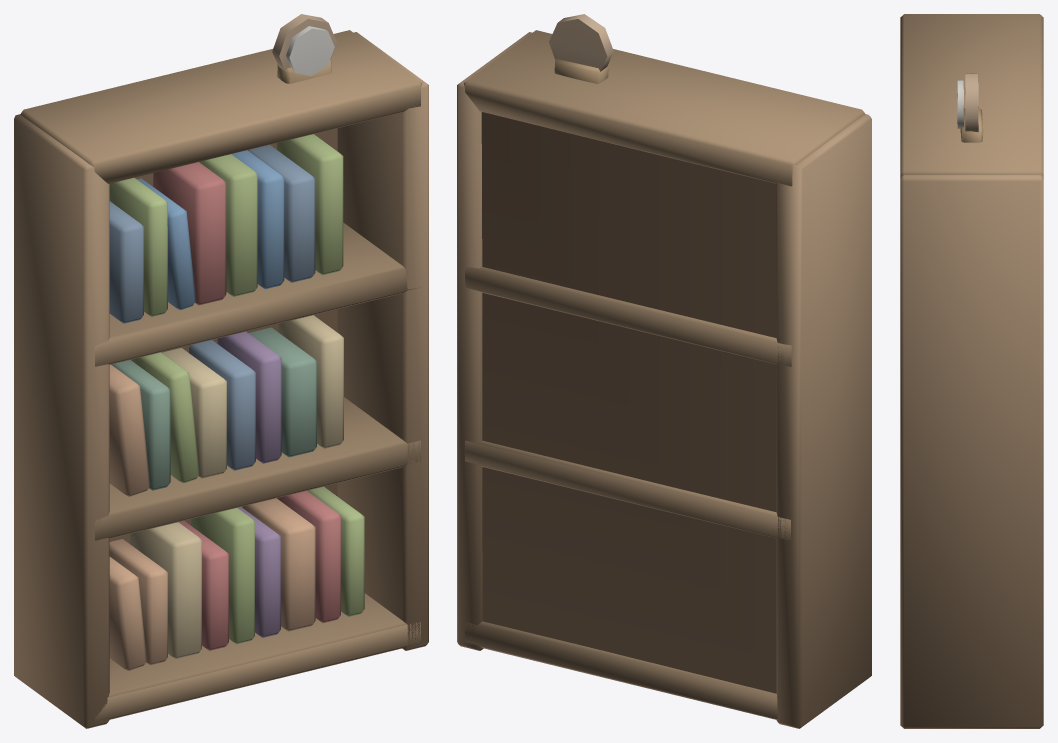
Rendered from bookshelf.glb.
3 views of the same model, side by side, from view 1: azimuth 30°, elevation 25°; view 2: azimuth 150°, elevation 25°; view 3: azimuth 270°, elevation 25° (orthographic). The views are drawn at different scales.
Visible parts, largest first — view 1: bookshelf; view 2: bookshelf; view 3: bookshelf.
Part boxes in pixels (<box>): bookshelf: <box>14,14,428,728</box>; bookshelf: <box>457,14,871,728</box>; bookshelf: <box>900,14,1043,728</box>.
Size of the model in its own units: 1.04 by 1.8 by 0.38.
